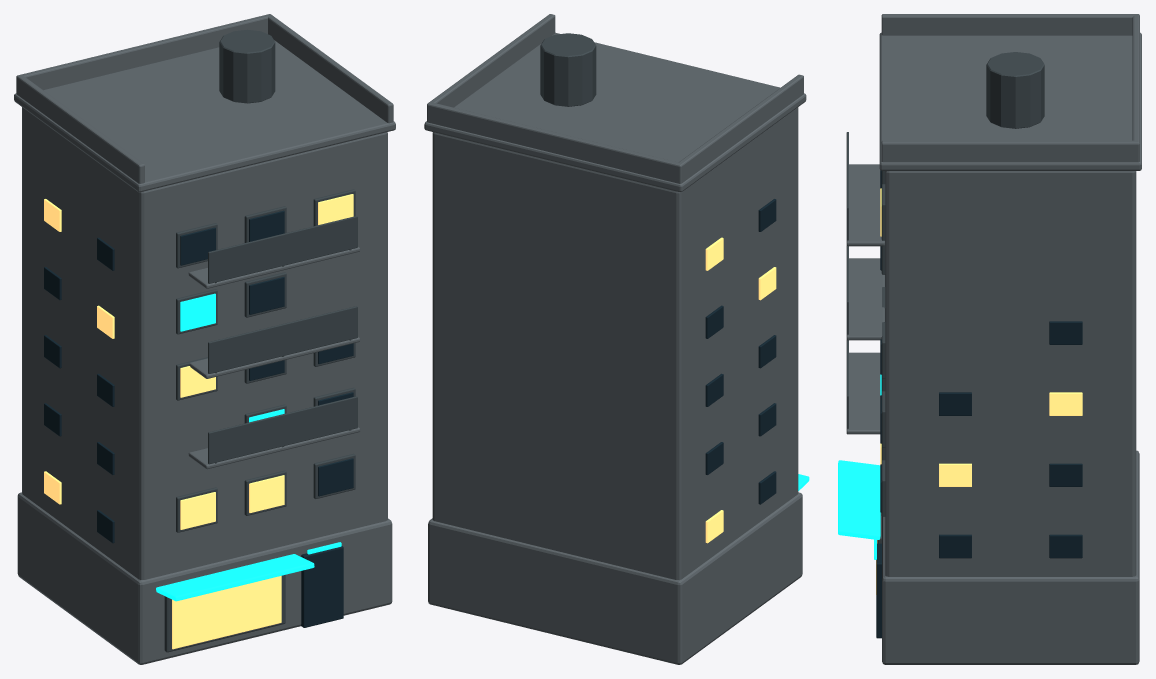
Rendered from stacked-flats_b.glb.
The picture shows the model from 3 angles, left to right: view 1: azimuth 30°, elevation 25°; view 2: azimuth 150°, elevation 25°; view 3: azimuth 270°, elevation 25°; orthographic projection. The views are drawn at different scales.
Parts seen in each view (by area): view 1: ND_Batch_structure, ND_Batch_metal, ND_Batch_glass, ND_Batch_warm, ND_Batch_practical; view 2: ND_Batch_structure, ND_Batch_metal, ND_Batch_glass, ND_Batch_warm; view 3: ND_Batch_structure, ND_Batch_metal, ND_Batch_glass, ND_Batch_practical, ND_Batch_warm.
Part boxes in pixels (box(x1,y1,x2,y2)): ND_Batch_structure: box(14, 14, 395, 664); ND_Batch_metal: box(164, 29, 357, 652); ND_Batch_glass: box(44, 210, 353, 627); ND_Batch_warm: box(44, 194, 353, 649); ND_Batch_practical: box(156, 293, 341, 601); ND_Batch_structure: box(424, 14, 806, 664); ND_Batch_metal: box(540, 33, 596, 106); ND_Batch_glass: box(705, 199, 776, 504); ND_Batch_warm: box(705, 237, 776, 543); ND_Batch_structure: box(846, 14, 1141, 664); ND_Batch_metal: box(846, 52, 1044, 543); ND_Batch_glass: box(876, 170, 1082, 638); ND_Batch_practical: box(838, 374, 881, 559); ND_Batch_warm: box(876, 188, 1082, 594).
Bounding box in the file's own units: 7.68 × 15.28 × 7.5.
